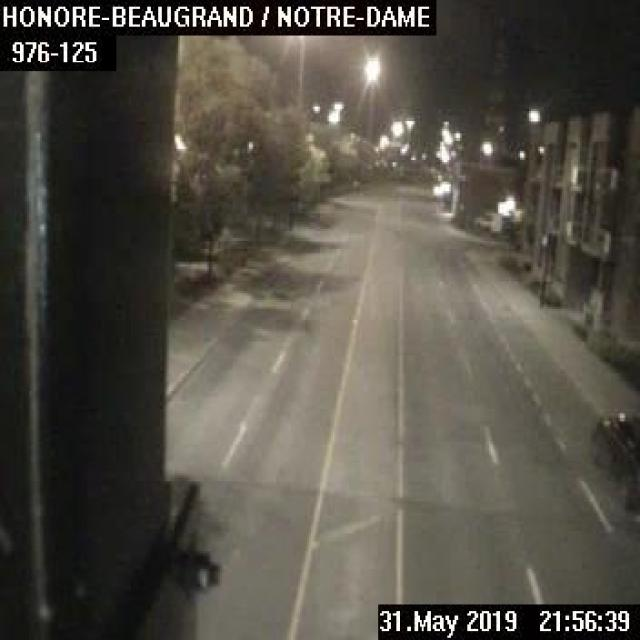vehicle: (589, 404, 638, 514)
